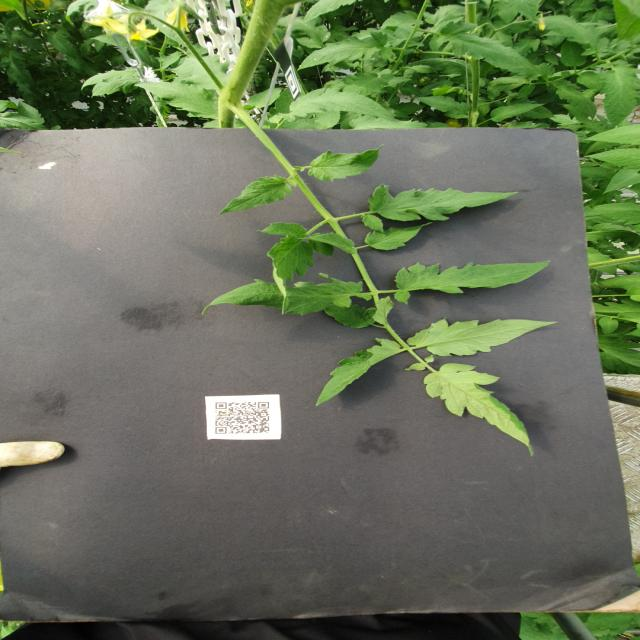Healthy Leaf: (424, 363, 534, 456), (255, 222, 355, 314), (361, 183, 518, 233), (199, 273, 369, 317), (395, 260, 548, 304), (406, 316, 558, 357), (429, 21, 539, 76), (315, 338, 401, 406), (368, 59, 486, 94), (279, 88, 395, 122), (133, 81, 219, 119), (216, 174, 292, 216), (595, 60, 640, 126), (306, 144, 384, 182), (295, 36, 379, 70), (554, 79, 598, 121), (365, 223, 429, 251), (462, 66, 522, 90), (413, 95, 471, 118), (582, 147, 640, 169), (582, 124, 640, 144), (489, 103, 546, 122), (587, 246, 618, 275), (247, 87, 282, 109), (561, 38, 587, 67), (275, 87, 295, 113), (598, 316, 618, 334)
